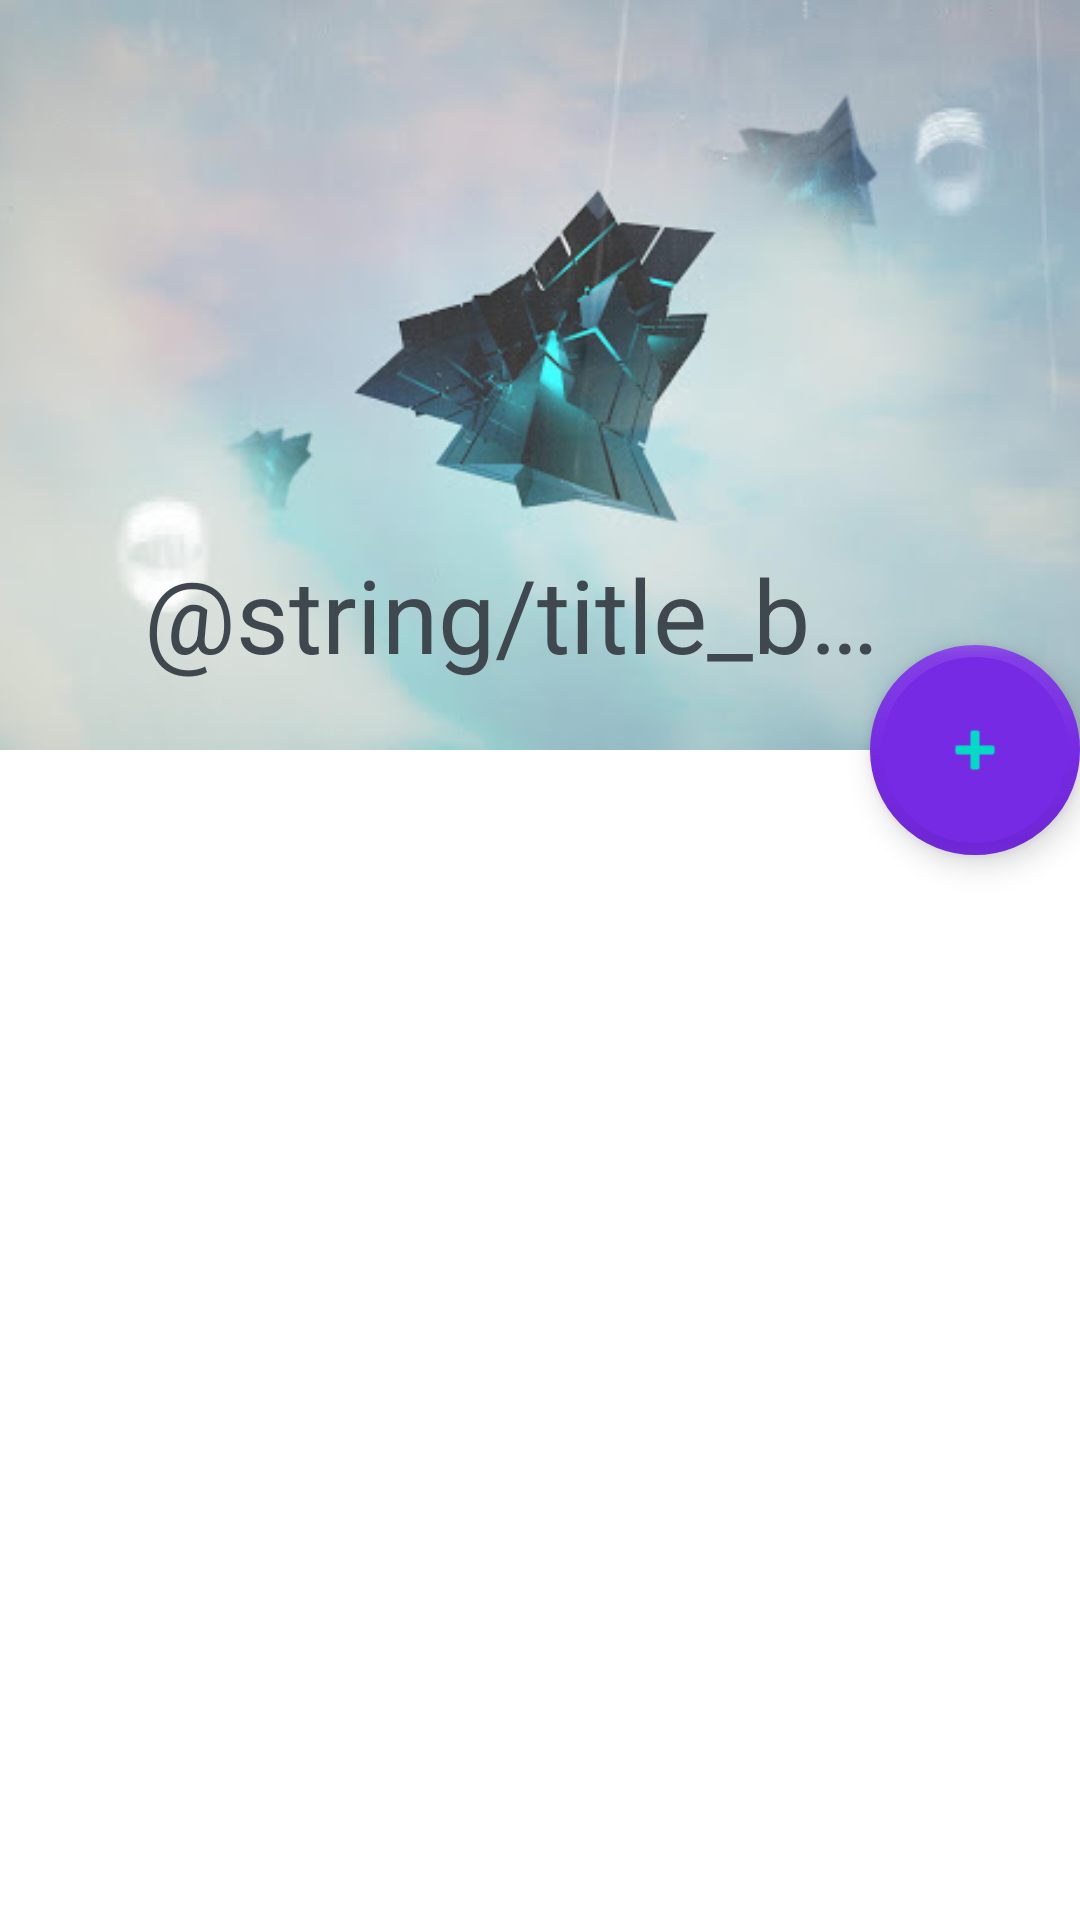

Icon click points for this 1080px×1920px phone screenshot, format (x,y):
add: (975,750)
